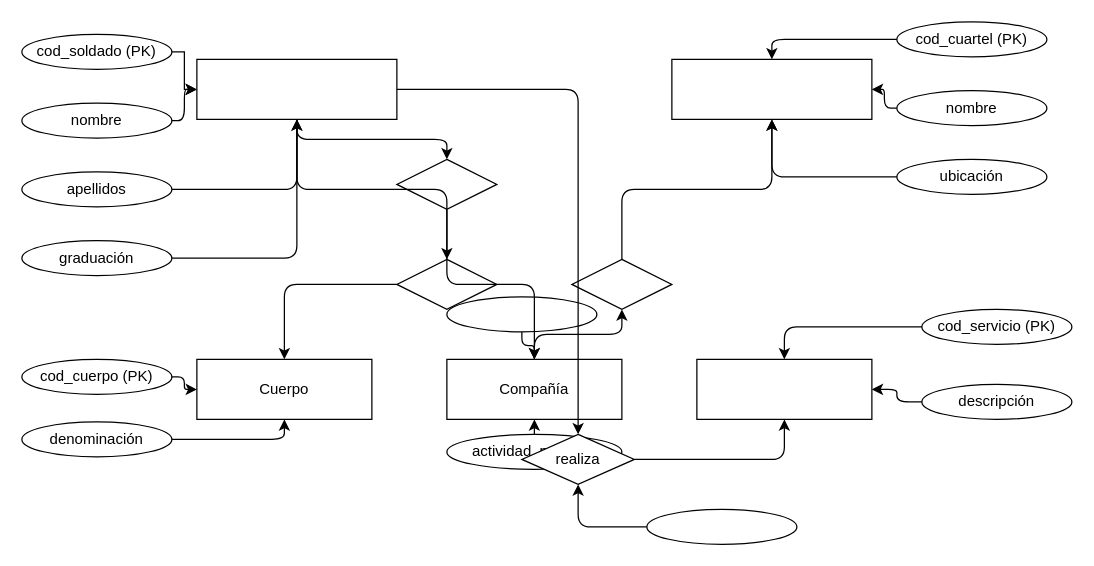
This 1094x566 diagram has some shape labels left out. Each missing label, with the centre of its shape:
asignado: (x=446, y=183)
Cuartel: (x=771, y=88)
fecha_realización: (x=721, y=526)
num_compañía (PK): (x=521, y=314)
pertenece: (x=446, y=283)
Servicio: (x=784, y=388)
Soldado: (x=296, y=88)
ubica: (x=621, y=283)
